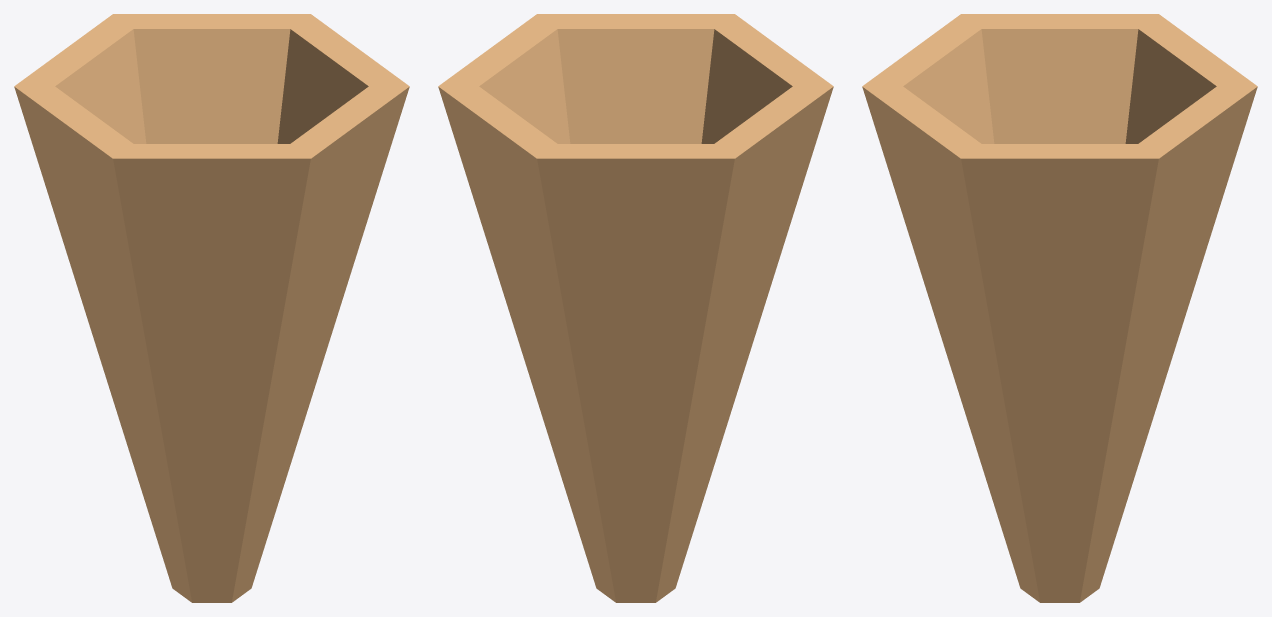
File: iceCreamCone.fbx
The picture shows the model from 3 angles, left to right: view 1: azimuth 30°, elevation 25°; view 2: azimuth 150°, elevation 25°; view 3: azimuth 270°, elevation 25°; orthographic projection.
Visible parts, largest first — view 1: iceCreamCone; view 2: iceCreamCone; view 3: iceCreamCone.
Part boxes in pixels (x1,y1,x2,y2): iceCreamCone: (14,14,409,602); iceCreamCone: (438,14,833,602); iceCreamCone: (862,14,1257,602).
Size of the model in its own units: 1.84 by 2.98 by 2.13.
